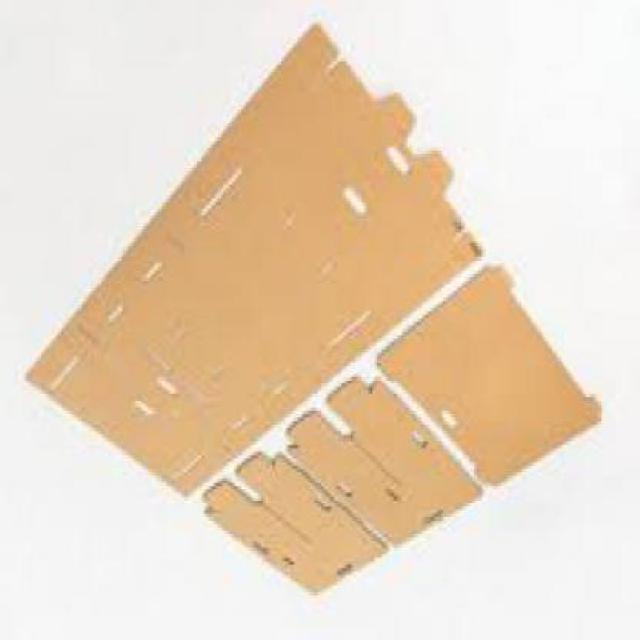CARDBOARD: (28, 31, 484, 503), (379, 268, 604, 489), (289, 380, 483, 548), (207, 455, 388, 599)
